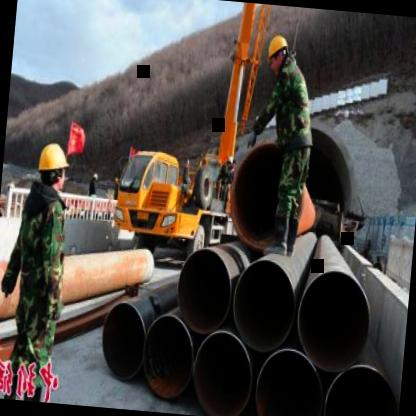helmet: (34, 139, 72, 194), (264, 30, 292, 76)
